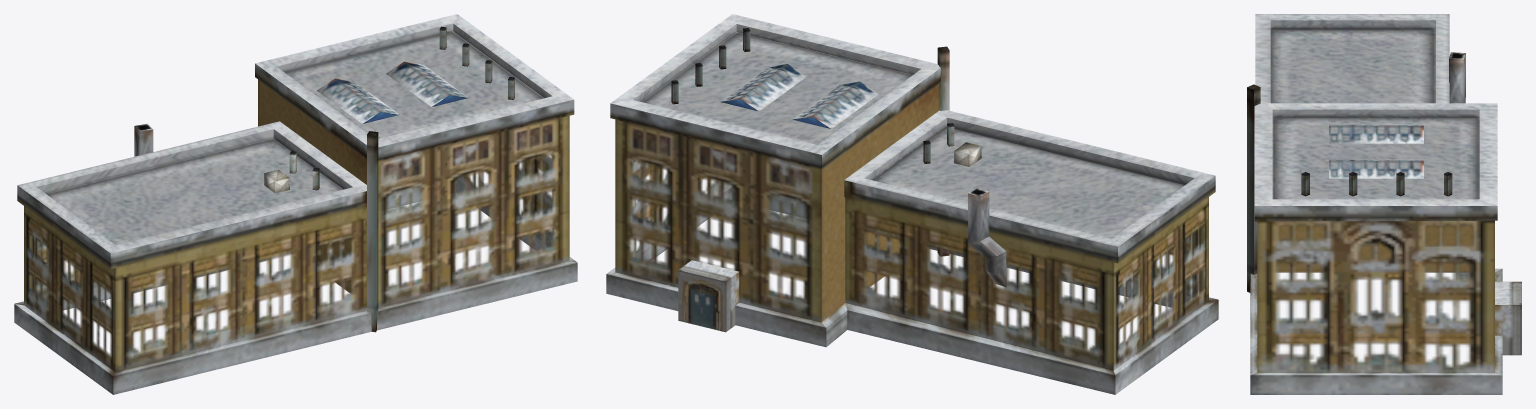
File: Civilian - Civilian Building - Industrial Building 01 - Snow and Night - CBIndWhs01_SN.glb
3 renders of one model, left to right at view 1: azimuth 30°, elevation 25°; view 2: azimuth 150°, elevation 25°; view 3: azimuth 270°, elevation 25°, orthographic. The views are drawn at different scales.
Visible parts, largest first — view 1: CBINDWHS01_SN; view 2: CBINDWHS01_SN; view 3: CBINDWHS01_SN.
Part boxes in pixels (left/top/right/bottom): CBINDWHS01_SN: left=14, top=14, right=577, bottom=394; CBINDWHS01_SN: left=606, top=14, right=1218, bottom=394; CBINDWHS01_SN: left=1247, top=14, right=1521, bottom=394.
Size of the model in its own units: 138 by 55.56 by 67.7.
Materials: 1 (1 with a texture image).
